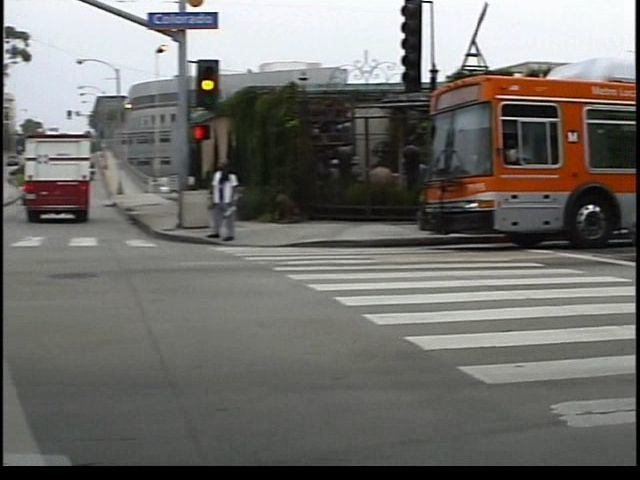person: (221, 157, 255, 245)
